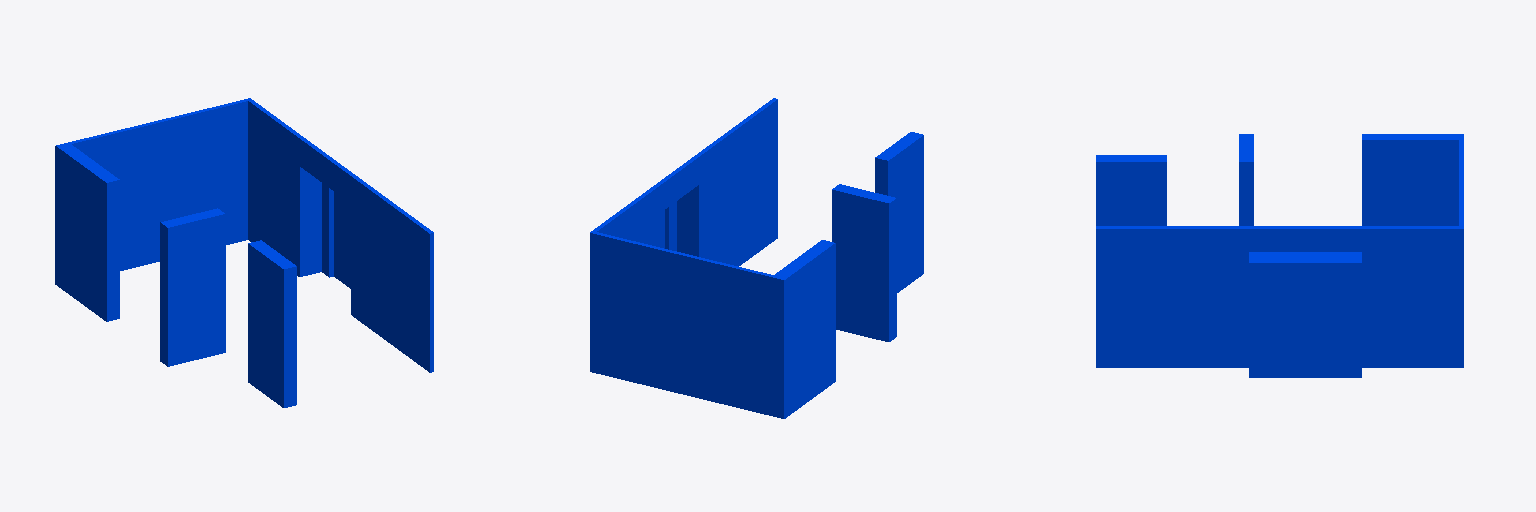
Rendered from walls.obj.
The picture shows the model from 3 angles: view 1: azimuth 30°, elevation 25°; view 2: azimuth 150°, elevation 25°; view 3: azimuth 270°, elevation 25°; orthographic projection.
Parts seen in each view (by area): view 1: Walls; view 2: Walls; view 3: Walls.
Boxes of the visible parts, x1,y1,x2,y2 form: Walls: [55, 98, 433, 407]; Walls: [590, 98, 923, 418]; Walls: [1096, 134, 1463, 377].
Bounding box in the file's own units: 4.9 × 3 × 7.2.